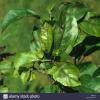Apple Scab Leaf: (53, 7, 78, 63), (53, 59, 82, 91), (13, 48, 52, 67), (60, 0, 88, 24), (79, 10, 99, 39), (40, 23, 57, 57)
